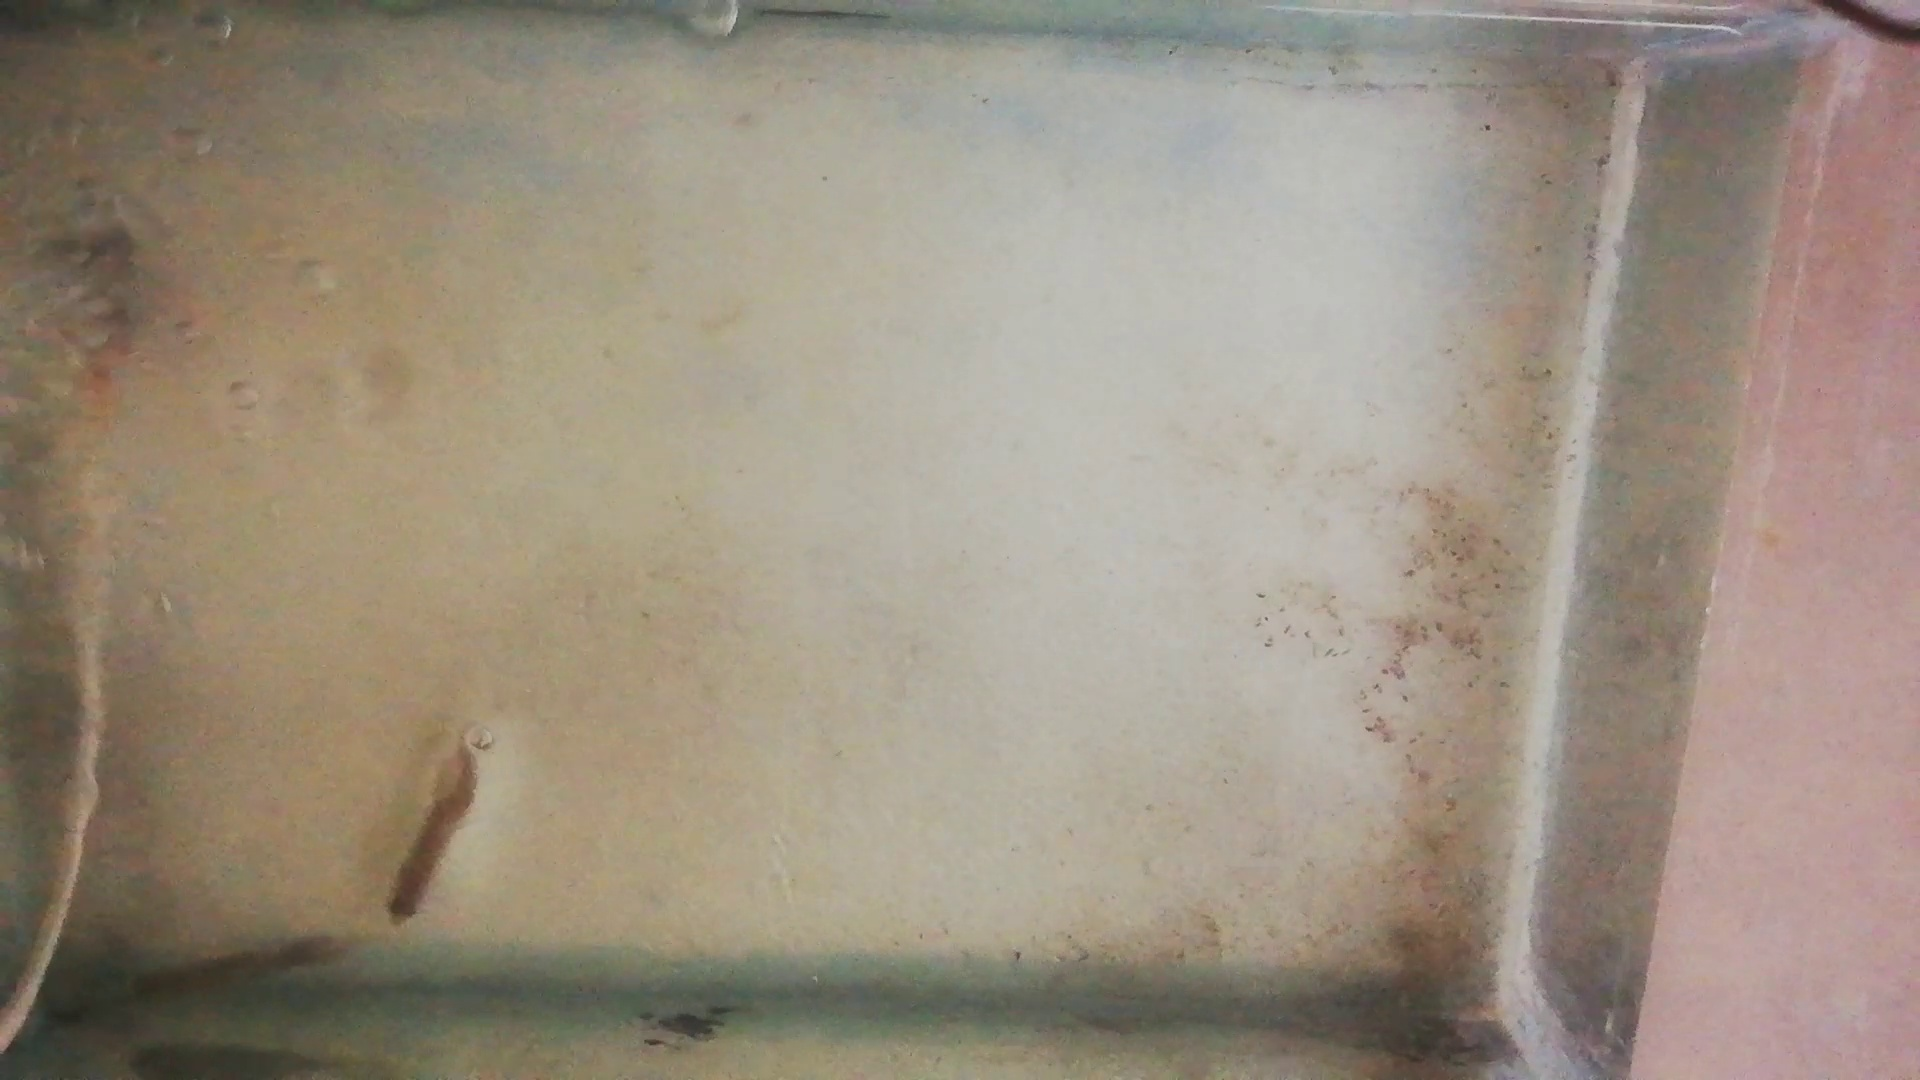fish: (386, 742, 477, 927), (136, 940, 345, 1005)
